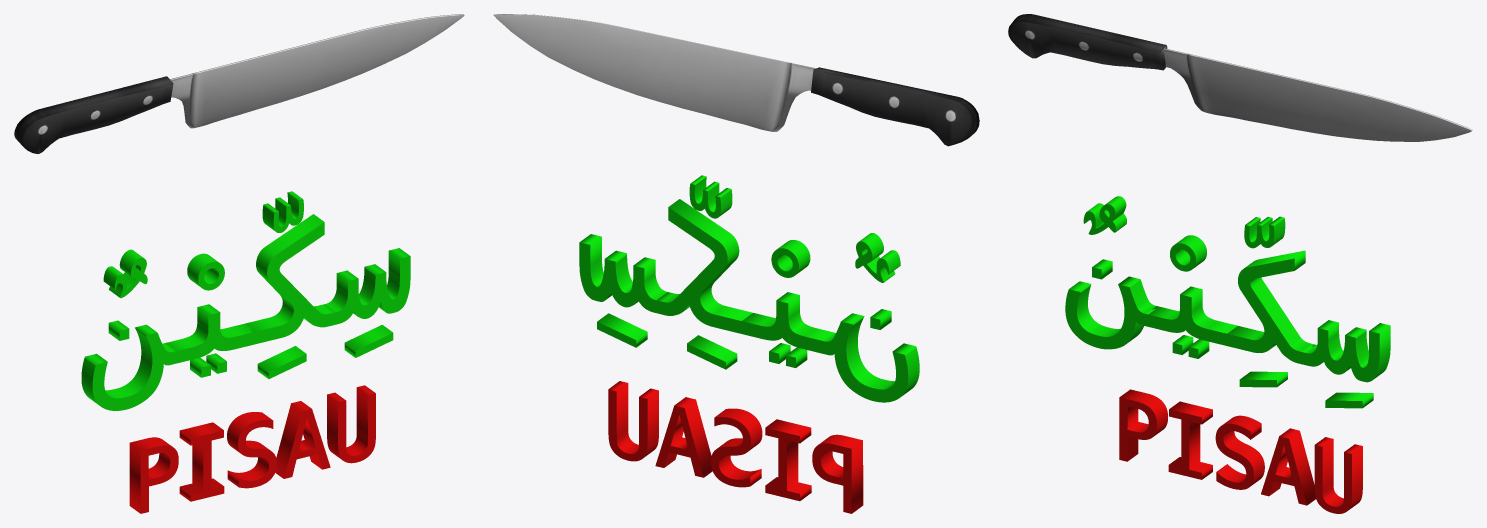
The model's file is Kitchenknife_lowpoly.fbx.
3 renders of one model, left to right at view 1: azimuth 30°, elevation 25°; view 2: azimuth 150°, elevation 25°; view 3: azimuth 330°, elevation 25°, orthographic. The views are drawn at different scales.
Visible parts, largest first — view 1: Teks, Blade, Teks.006, Handle, Teks.005, Teks.003, Teks.004, Teks.002, Teks.001; view 2: Blade, Teks, Teks.006, Handle, Teks.005, Teks.003, Teks.004, Teks.001, Teks.002; view 3: Teks, Blade, Teks.006, Handle, Teks.005, Teks.003, Teks.004, Teks.001, Teks.002.
Boxes of the visible parts, <box> form: Teks: <box>81,214,410,410</box>; Blade: <box>170,14,464,128</box>; Teks.006: <box>129,385,375,513</box>; Handle: <box>14,76,173,153</box>; Teks.005: <box>103,249,147,298</box>; Teks.003: <box>262,191,303,232</box>; Teks.004: <box>187,253,224,290</box>; Teks.002: <box>257,346,306,378</box>; Teks.001: <box>344,324,393,357</box>; Blade: <box>493,14,815,131</box>; Teks: <box>579,199,919,402</box>; Teks.006: <box>608,381,863,513</box>; Handle: <box>811,67,979,146</box>; Teks.005: <box>855,233,900,282</box>; Teks.003: <box>689,175,732,218</box>; Teks.004: <box>771,240,810,277</box>; Teks.001: <box>597,313,647,347</box>; Teks.002: <box>687,335,737,369</box>; Teks: <box>1065,250,1390,382</box>; Blade: <box>1163,48,1472,141</box>; Teks.006: <box>1119,389,1362,513</box>; Handle: <box>1008,14,1167,70</box>; Teks.005: <box>1083,196,1126,234</box>; Teks.003: <box>1244,216,1285,248</box>; Teks.004: <box>1170,235,1206,271</box>; Teks.001: <box>1325,392,1373,408</box>; Teks.002: <box>1239,371,1287,387</box>.
Bounding box in the file's own units: 476 × 421 × 45.02.
